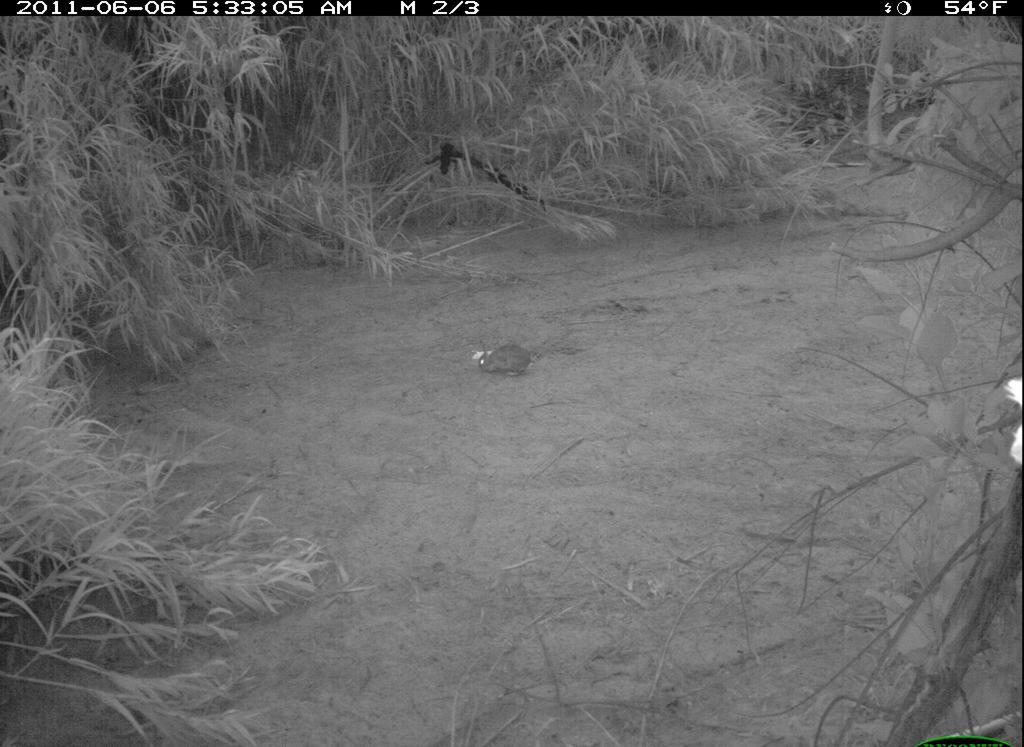rabbit: (473, 329, 545, 378)
